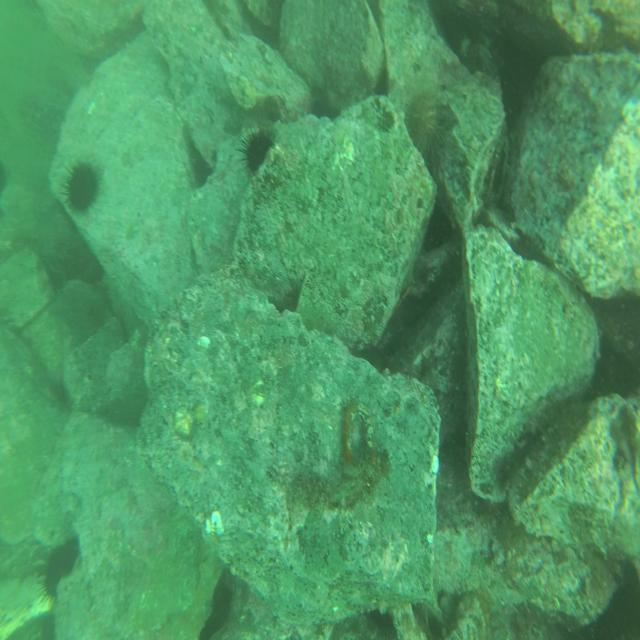echinus: (38, 542, 84, 612), (405, 89, 446, 158), (238, 126, 278, 177), (63, 160, 101, 210)
scallop: (171, 407, 199, 443), (202, 511, 228, 544)
